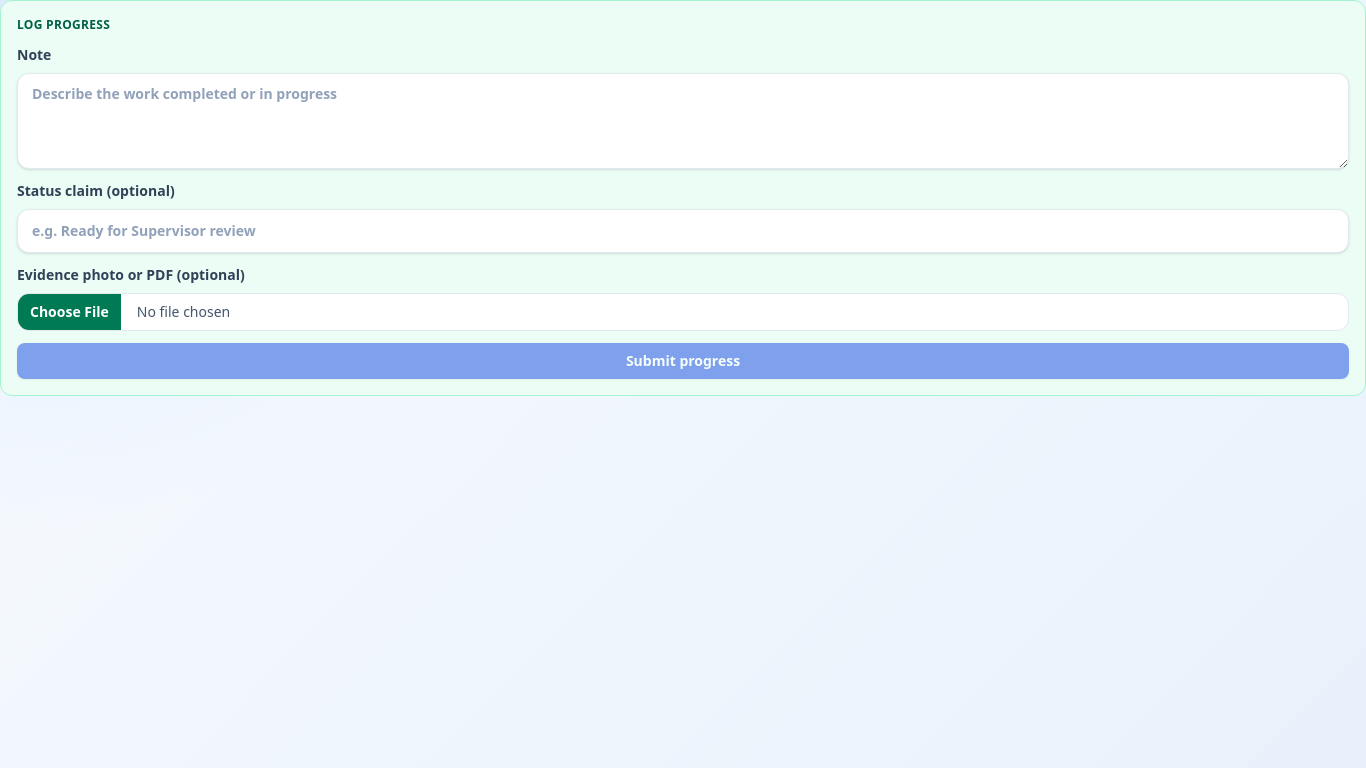
Scenario: TaskProgressForm › disables submit until a note, status claim, or file is provided
Check: the button "Submit progress" is disabled, box [17,343,1349,379]
Type "Crew mobilised." into the text box labelled "Note" at (683, 121), box [17,73,1349,169]
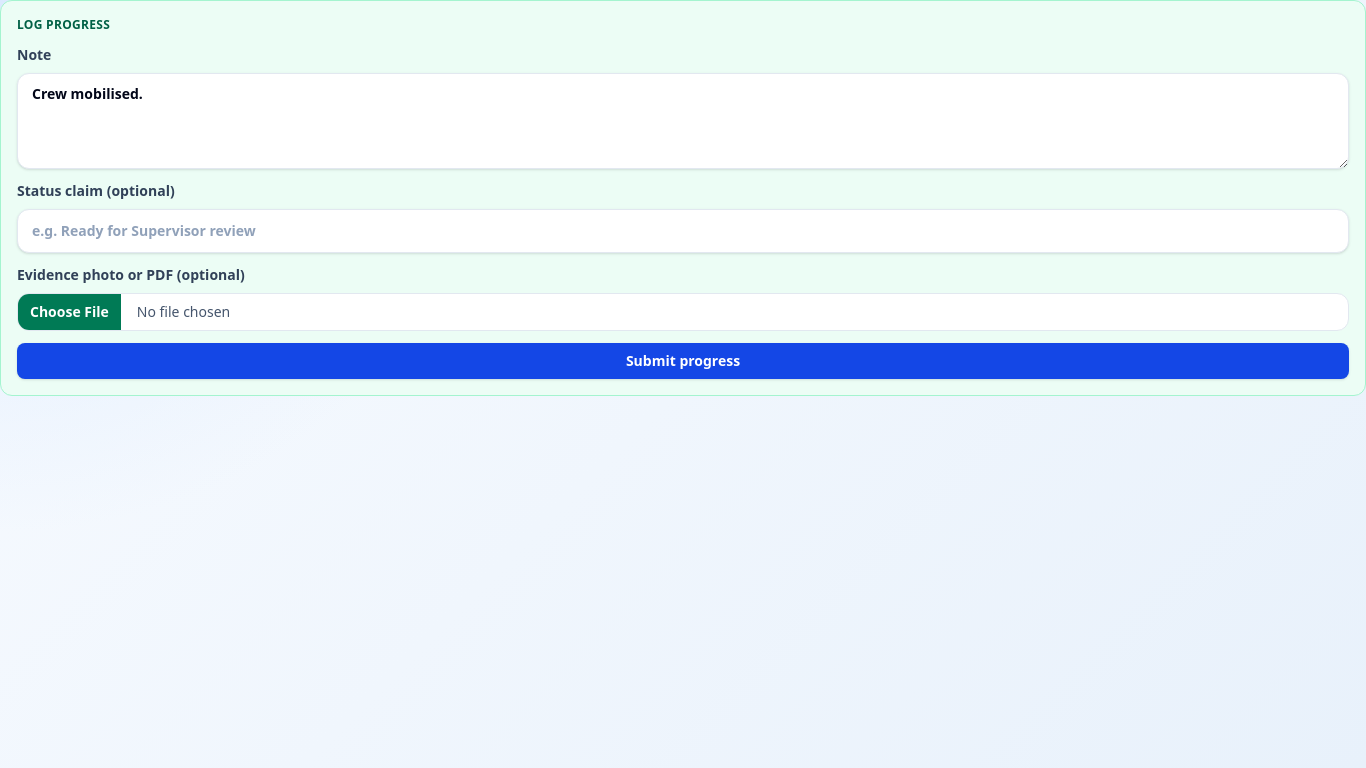
Check: the button "Submit progress" is enabled, box [17,343,1349,379]
